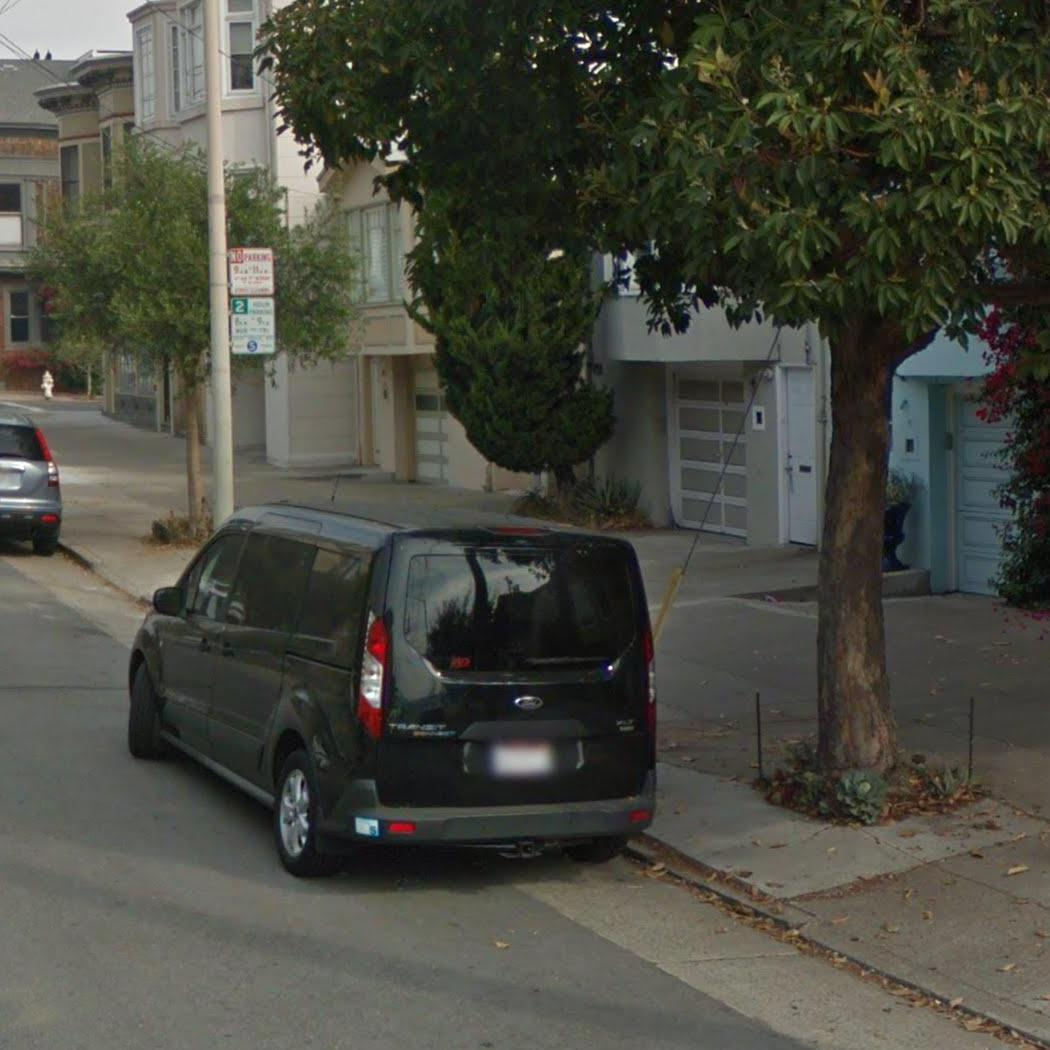2 Hour Parking: (227, 295, 279, 356)
No Parking: (225, 245, 276, 299)
